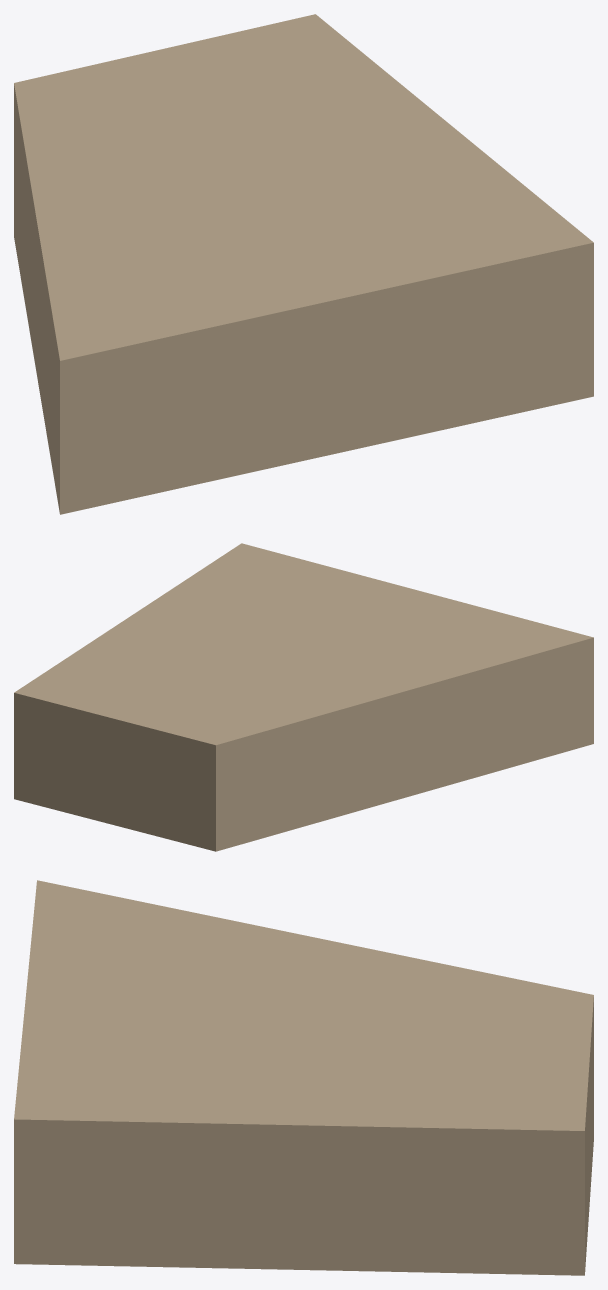
Rendered from bld_49071567.dae.
The picture shows the model from 3 angles, top to bottom: view 1: azimuth 30°, elevation 25°; view 2: azimuth 150°, elevation 25°; view 3: azimuth 270°, elevation 25°; orthographic projection. The views are drawn at different scales.
Parts seen in each view (by area): view 1: bld_49071567; view 2: bld_49071567; view 3: bld_49071567.
Boxes of the visible parts, x1,y1,x2,y2 form: bld_49071567: (14,14,593,514); bld_49071567: (14,543,593,851); bld_49071567: (14,880,593,1275).
Size of the model in its own units: 29.76 by 29.07 by 8.
